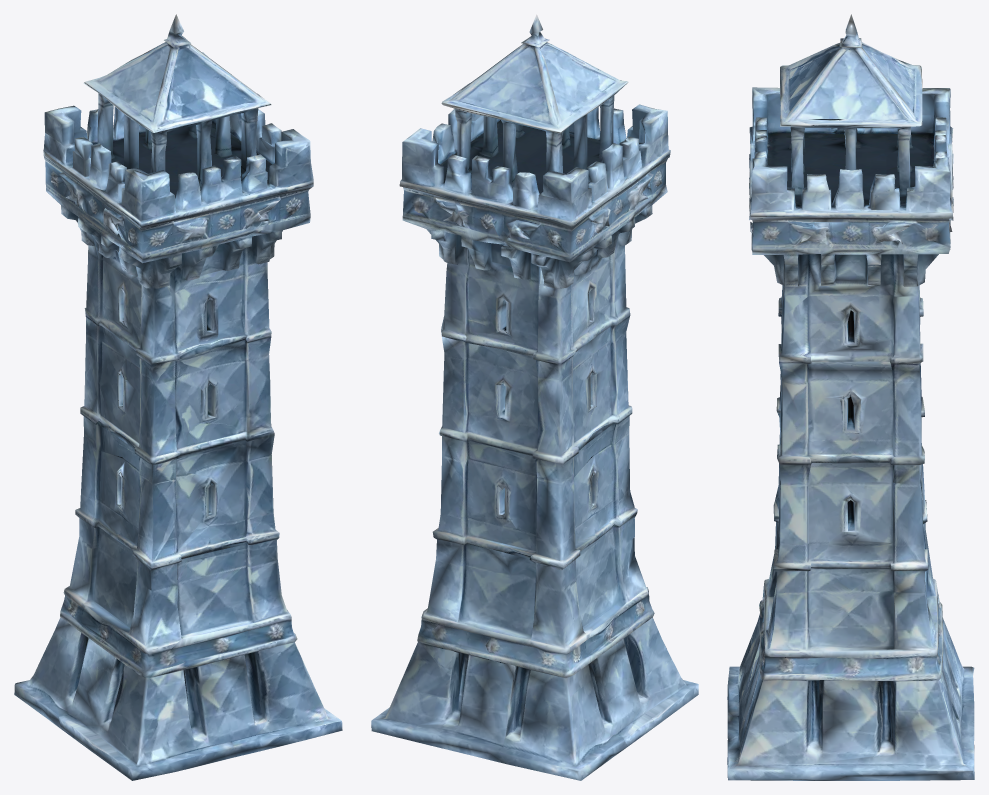
The model's file is castle_tower_tall_diamond_ice.glb.
3 renders of one model, left to right at view 1: azimuth 30°, elevation 25°; view 2: azimuth 150°, elevation 25°; view 3: azimuth 270°, elevation 25°, orthographic. The views are drawn at different scales.
Parts seen in each view (by area): view 1: tripo_node_faad818e-2767-4ae5-b9e4-fcfa9504bde4; view 2: tripo_node_faad818e-2767-4ae5-b9e4-fcfa9504bde4; view 3: tripo_node_faad818e-2767-4ae5-b9e4-fcfa9504bde4.
Part boxes in pixels (x1,y1,x2,y2): tripo_node_faad818e-2767-4ae5-b9e4-fcfa9504bde4: (14, 14, 342, 780); tripo_node_faad818e-2767-4ae5-b9e4-fcfa9504bde4: (371, 14, 698, 780); tripo_node_faad818e-2767-4ae5-b9e4-fcfa9504bde4: (727, 14, 974, 780).
Size of the model in its own units: 0.3063 by 0.9797 by 0.307.
Materials: 1 (1 with a texture image).
